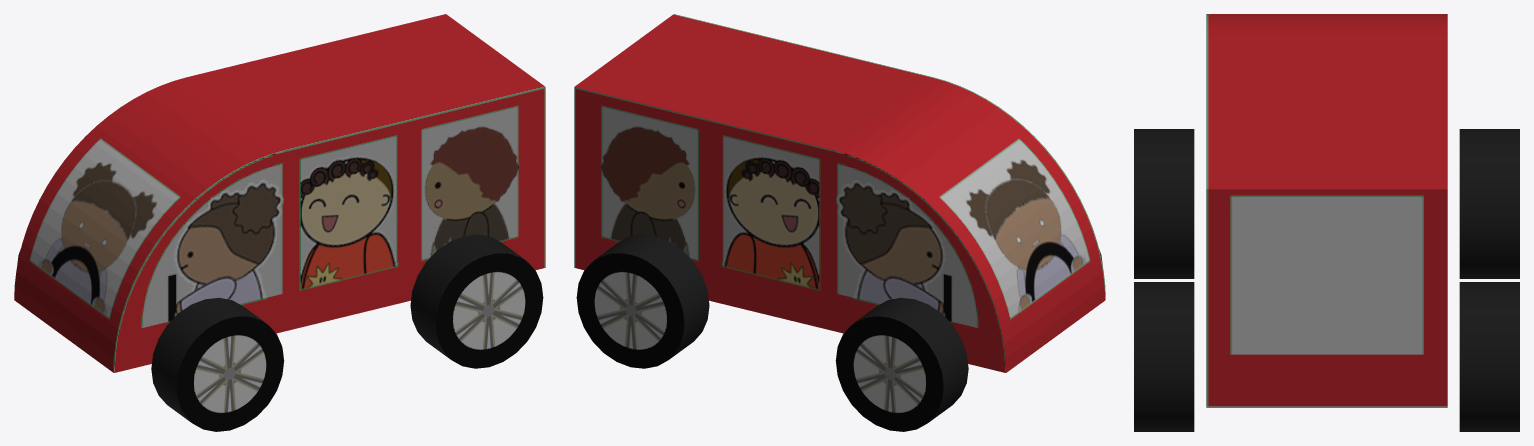
Rendered from car.glb.
The picture shows the model from 3 angles, left to right: view 1: azimuth 30°, elevation 25°; view 2: azimuth 150°, elevation 25°; view 3: azimuth 270°, elevation 25°; orthographic projection. The views are drawn at different scales.
Visible parts, largest first — view 1: car, wheelLB, wheelLF; view 2: car, wheelRB, wheelRF; view 3: car, wheelRB, wheelRF, wheelLB, wheelLF.
Part boxes in pixels (<box>): car: <box>14,14,545,372</box>; wheelLB: <box>410,234,543,368</box>; wheelLF: <box>151,297,284,431</box>; car: <box>574,14,1105,372</box>; wheelRB: <box>576,234,709,368</box>; wheelRF: <box>835,297,968,431</box>; car: <box>1206,14,1447,407</box>; wheelRB: <box>1459,282,1519,431</box>; wheelRF: <box>1459,129,1519,278</box>; wheelLB: <box>1134,282,1194,431</box>; wheelLF: <box>1134,129,1194,278</box>.
Size of the model in its own units: 0.5 by 0.2625 by 0.32.
Materials: 2 (2 with a texture image).
